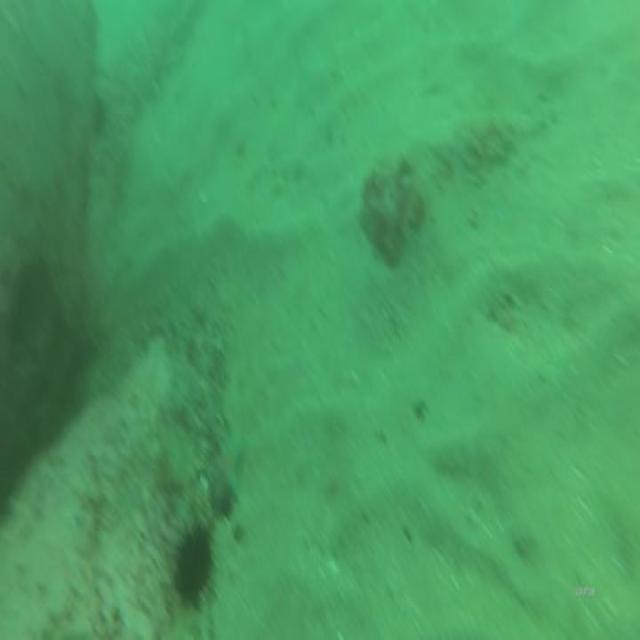echinus: (165, 502, 223, 620)
starfish: (197, 433, 247, 518)
